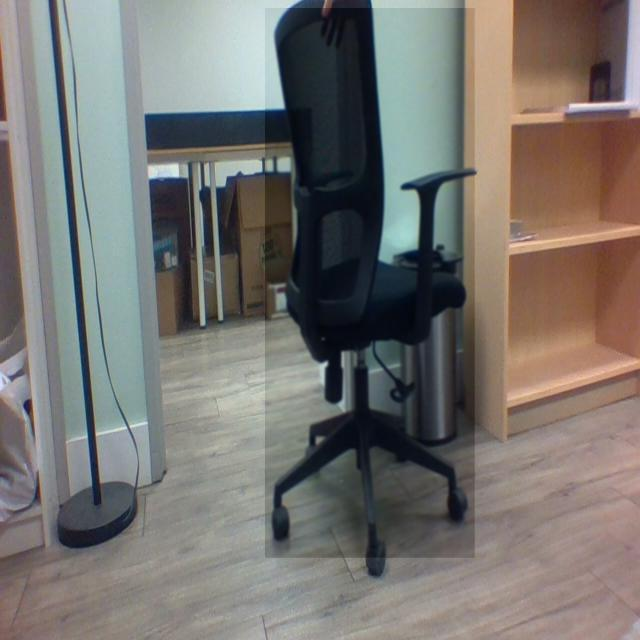chair: (264, 8, 476, 560)
